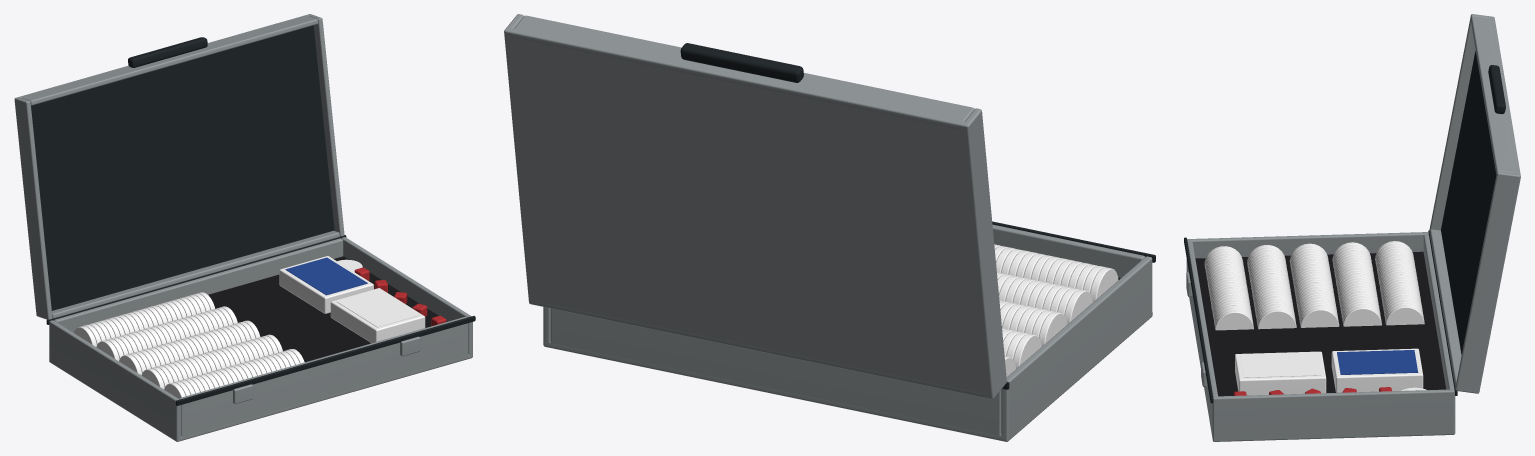
File: poker-set-5d330549.glb
3 views of the same model, side by side, from view 1: azimuth 30°, elevation 25°; view 2: azimuth 150°, elevation 25°; view 3: azimuth 270°, elevation 25° (orthographic). The views are drawn at different scales.
Parts seen in each view (by area): view 1: Inspect · Chip case · lid foam, Inspect · Chip case · aluminium side, Inspect · Chip case · felt chip tray, Inspect · Chip case · aluminium end, Inspect · Chip case · aluminium side.001, Inspect · Chip case · lid end, Inspect · Chip case · lid side, Inspect · Chip case · aluminium end.001, Inspect · Chip case · lid side.001, Inspect · Chip case · lid end.001, Inspect · Chip case · black rim trim, Inspect · Chip case · deck of cards (+7 smaller); view 2: Inspect · Chip case · aluminium lid, Inspect · Chip case · aluminium side.001, Inspect · Chip case · aluminium end, Inspect · Chip case · lid side, Inspect · Chip case · lid end, Inspect · Chip case · aluminium side, Inspect · Chip case · aluminium floor, Inspect · Chip case · handle, Inspect · Chip case · lid side.001; view 3: Inspect · Chip case · aluminium end.001, Inspect · Chip case · felt chip tray, Inspect · Chip case · lid foam, Inspect · Chip case · lid end.001, Inspect · Chip case · aluminium end, Inspect · Chip case · lid side, Inspect · Chip case · lid end, Inspect · Chip case · deck of cards, Inspect · Chip case · deck of cards.001, Inspect · Chip case · card back, Inspect · Chip case · card back.001, Inspect · Chip case · lid side.001 (+11 smaller).
Part boxes in pixels (<box>): Inspect · Chip case · lid foam: <box>31,25,334,310</box>; Inspect · Chip case · aluminium side: <box>179,316,468,437</box>; Inspect · Chip case · felt chip tray: <box>208,256,447,362</box>; Inspect · Chip case · aluminium end: <box>49,320,180,441</box>; Inspect · Chip case · aluminium side.001: <box>54,238,343,332</box>; Inspect · Chip case · lid end: <box>14,97,52,319</box>; Inspect · Chip case · lid side: <box>21,16,318,105</box>; Inspect · Chip case · aluminium end.001: <box>341,237,472,358</box>; Inspect · Chip case · lid side.001: <box>52,230,339,318</box>; Inspect · Chip case · lid end.001: <box>309,14,344,236</box>; Inspect · Chip case · black rim trim: <box>176,316,475,405</box>; Inspect · Chip case · deck of cards: <box>330,288,425,343</box>; Inspect · Chip case · aluminium lid: <box>504,27,995,398</box>; Inspect · Chip case · aluminium side.001: <box>550,308,1001,439</box>; Inspect · Chip case · aluminium end: <box>1001,256,1152,441</box>; Inspect · Chip case · lid side: <box>512,15,974,129</box>; Inspect · Chip case · lid end: <box>963,108,1006,399</box>; Inspect · Chip case · aluminium side: <box>992,224,1144,277</box>; Inspect · Chip case · aluminium floor: <box>543,312,1152,441</box>; Inspect · Chip case · handle: <box>680,43,803,82</box>; Inspect · Chip case · lid side.001: <box>537,301,984,396</box>; Inspect · Chip case · aluminium end.001: <box>1212,389,1455,441</box>; Inspect · Chip case · felt chip tray: <box>1195,251,1446,396</box>; Inspect · Chip case · lid foam: <box>1441,51,1496,354</box>; Inspect · Chip case · lid end.001: <box>1455,171,1520,393</box>; Inspect · Chip case · aluminium end: <box>1186,232,1428,272</box>; Inspect · Chip case · lid side: <box>1470,16,1516,174</box>; Inspect · Chip case · lid end: <box>1429,14,1494,232</box>; Inspect · Chip case · deck of cards: <box>1235,351,1326,395</box>; Inspect · Chip case · deck of cards.001: <box>1331,348,1423,392</box>; Inspect · Chip case · card back: <box>1240,352,1321,377</box>; Inspect · Chip case · card back.001: <box>1337,350,1418,374</box>; Inspect · Chip case · lid side.001: <box>1429,229,1461,387</box>.
Bounding box in the file's own units: 0.8254 × 0.6116 × 0.6933.
